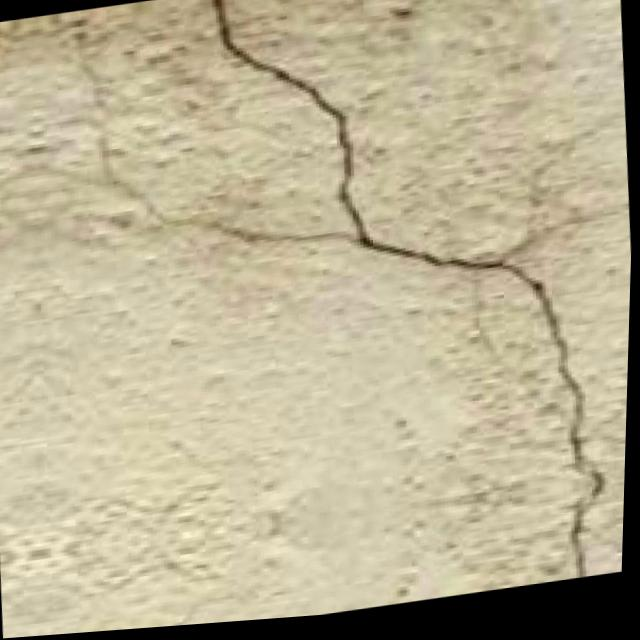Crack: (171, 0, 640, 629)
